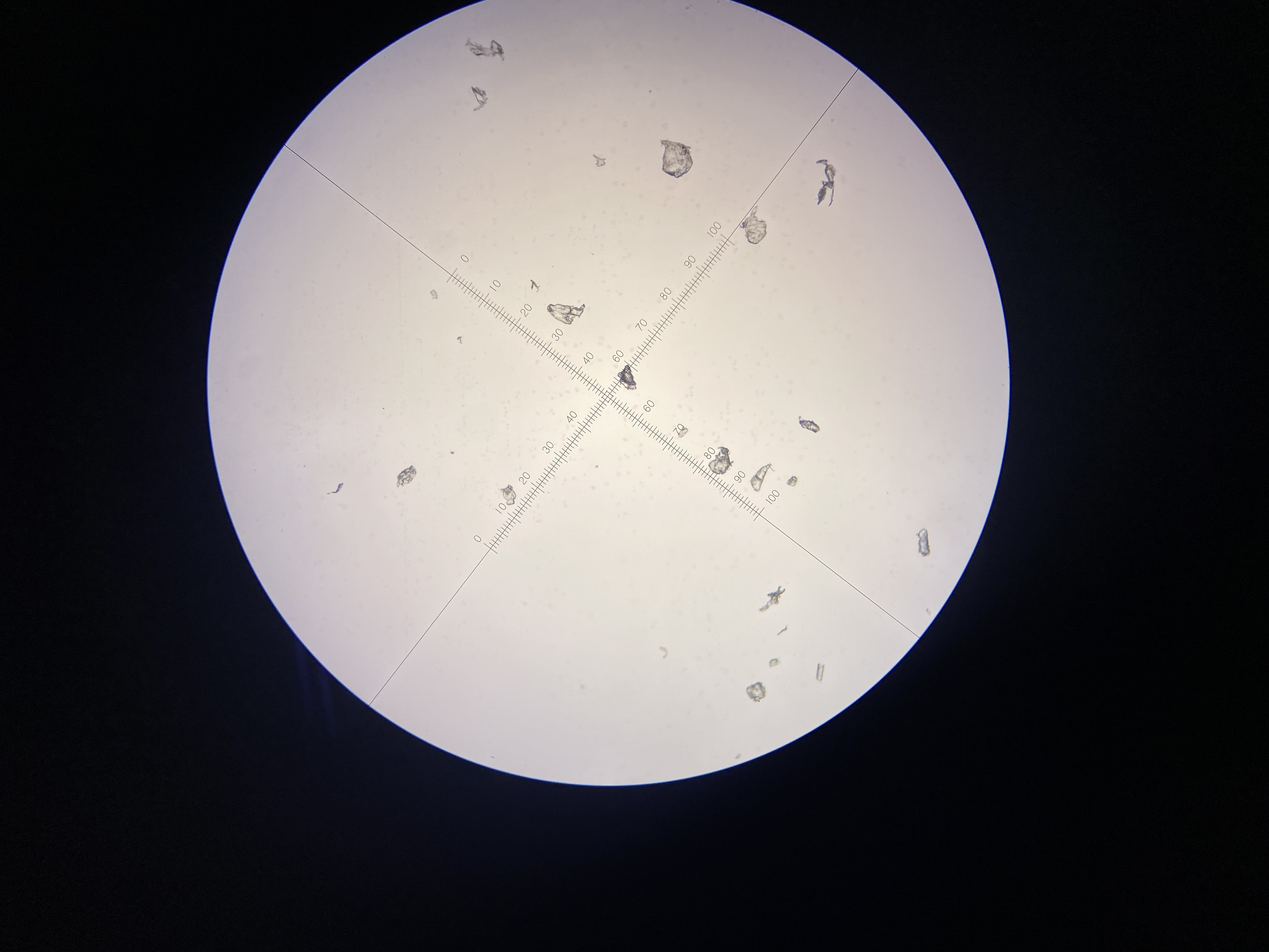microplastic: (660, 140, 693, 178), (740, 206, 767, 244), (465, 37, 505, 61), (816, 159, 836, 206), (547, 304, 585, 324), (708, 446, 734, 474), (750, 463, 775, 491), (759, 586, 785, 612), (617, 365, 637, 390), (397, 465, 417, 488), (471, 86, 488, 111), (916, 529, 930, 557), (746, 682, 765, 702), (799, 416, 820, 434), (500, 484, 516, 505), (327, 483, 344, 494), (592, 154, 606, 167), (816, 663, 825, 682), (530, 280, 541, 292), (786, 476, 797, 487), (777, 625, 787, 636), (678, 427, 688, 438), (769, 658, 780, 667), (430, 289, 438, 299)
